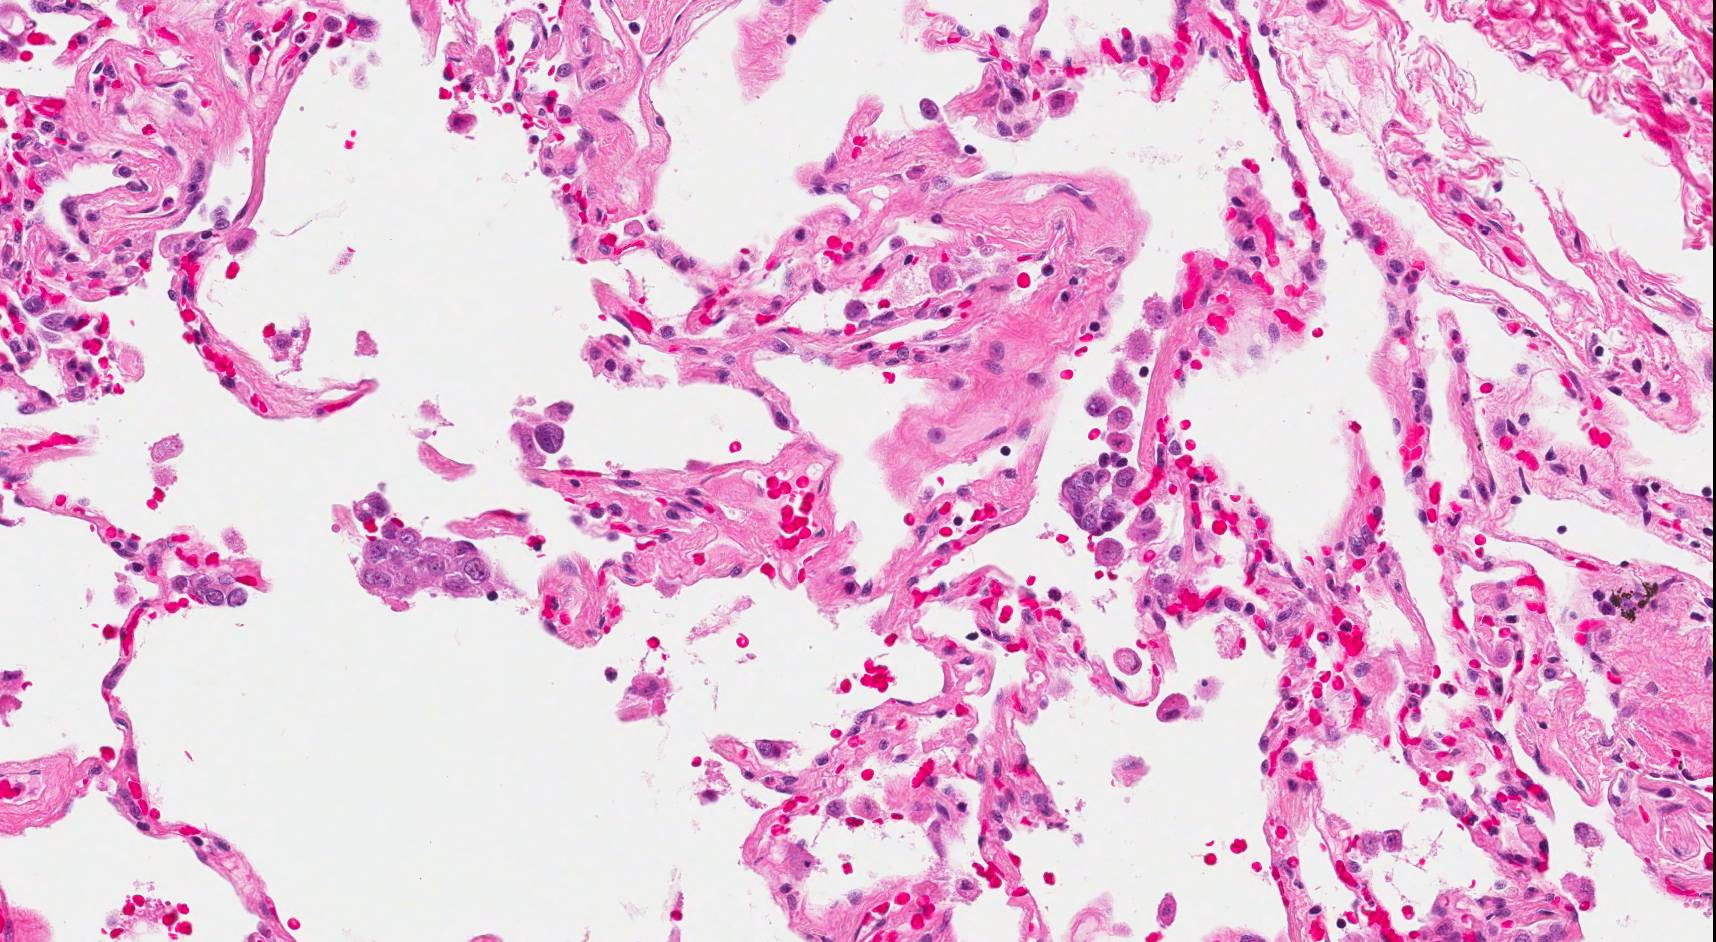stas: (350, 492, 498, 609), (1060, 458, 1139, 539), (168, 560, 254, 613), (528, 415, 573, 459)
